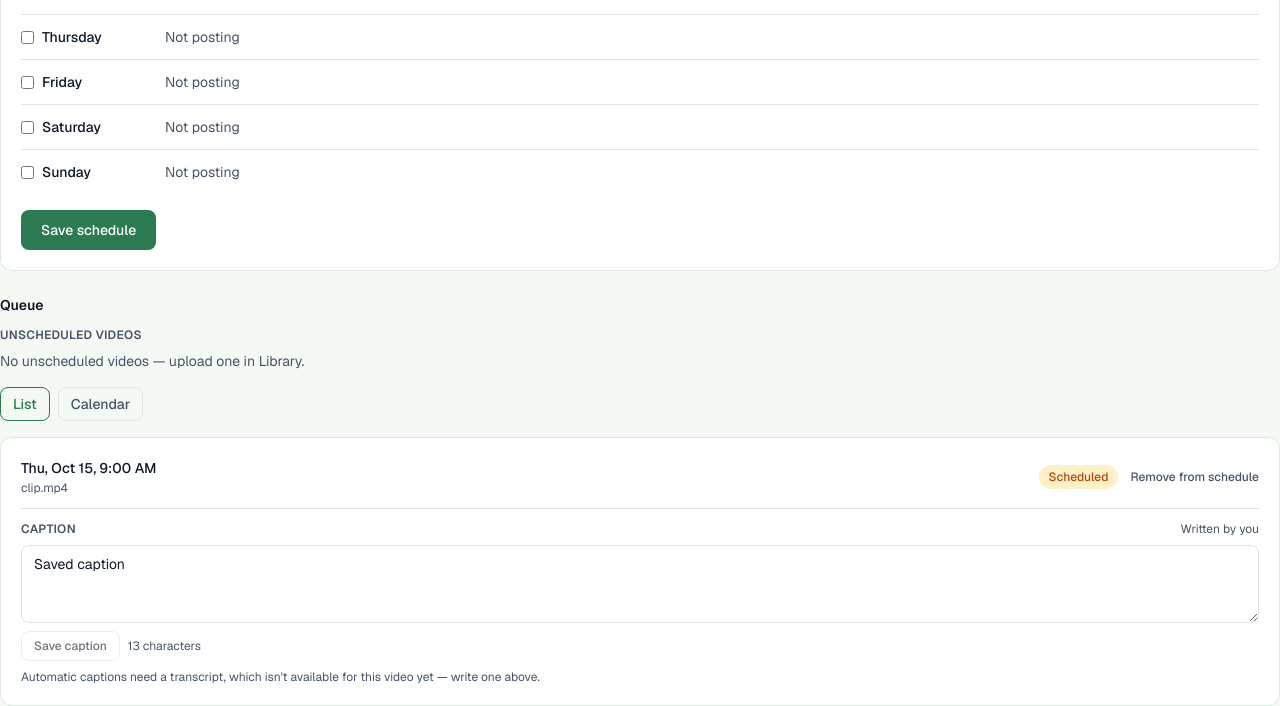
Test case: QueuePage — Queue (list/calendar, assign/unassign) › switches to calendar view and selects a slot to see its detail
The image size is (1280, 706).
(page scrolled)
Click the button "Calendar" at (101, 404), box [58, 387, 143, 421]
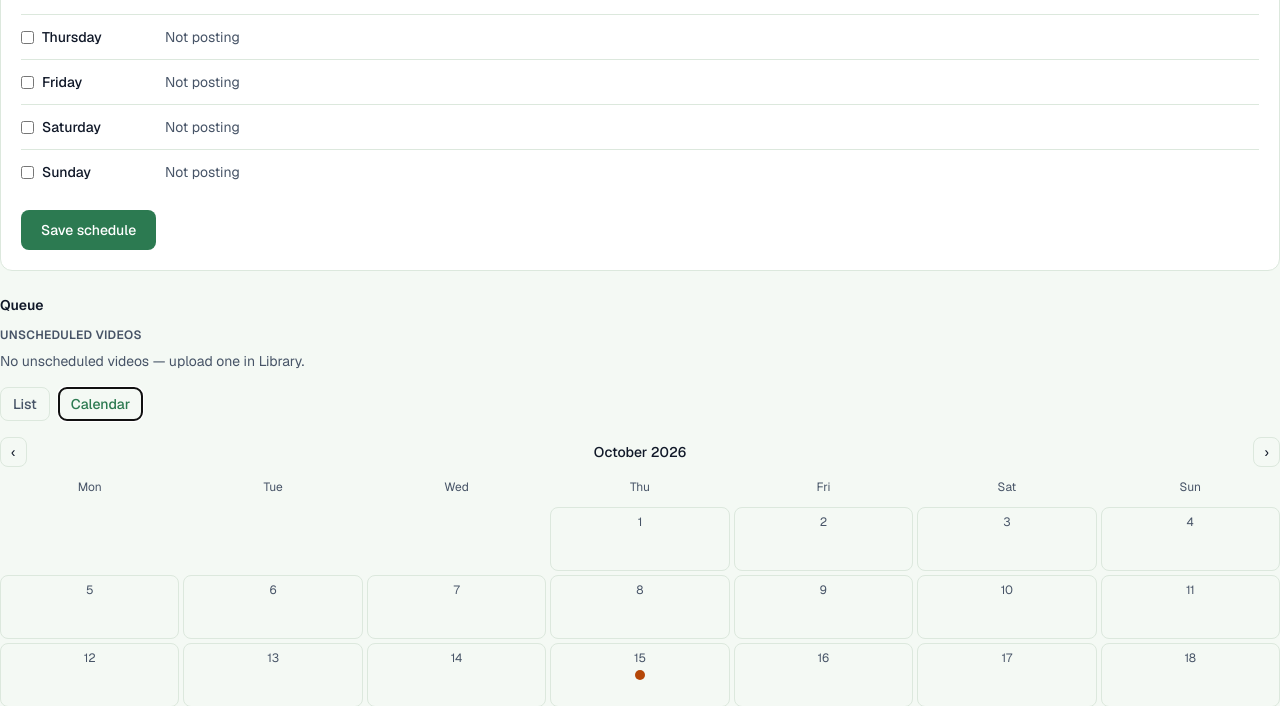
Click the button named "scheduled" at (640, 675), box [635, 670, 645, 680]
(page scrolled)
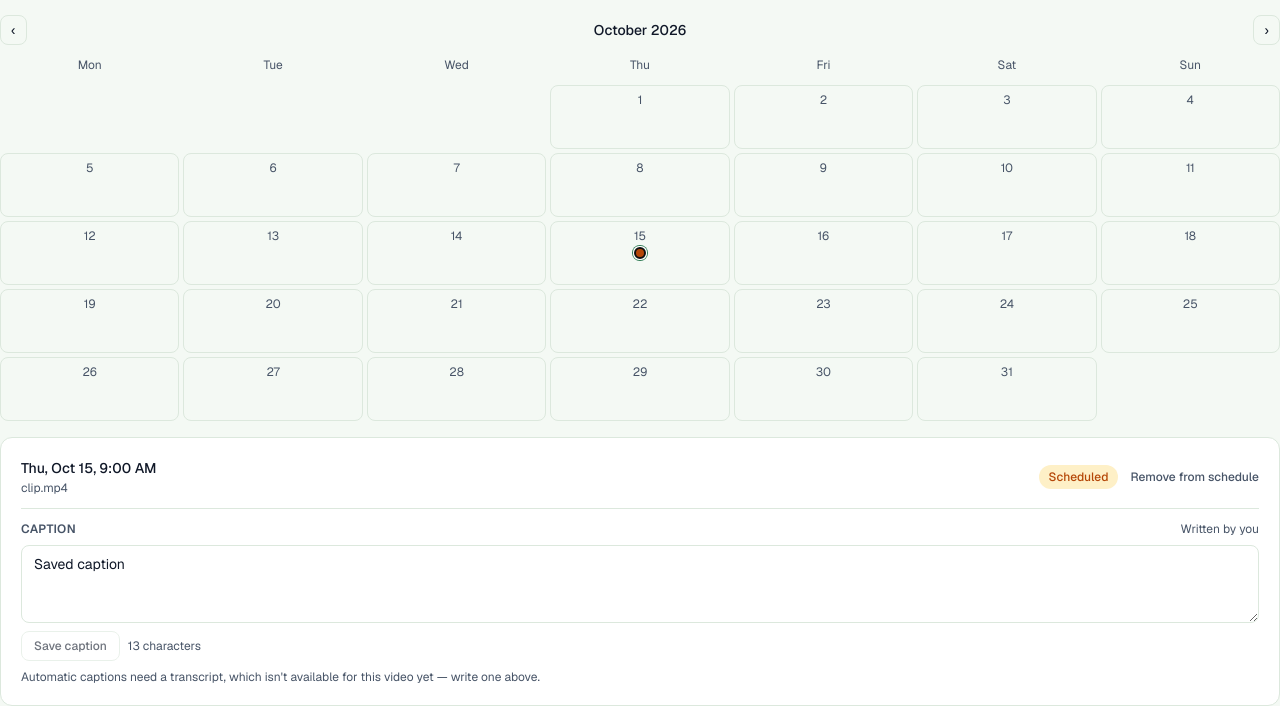
Check: the text "clip.mp4" is shown, box [21, 480, 68, 496]
